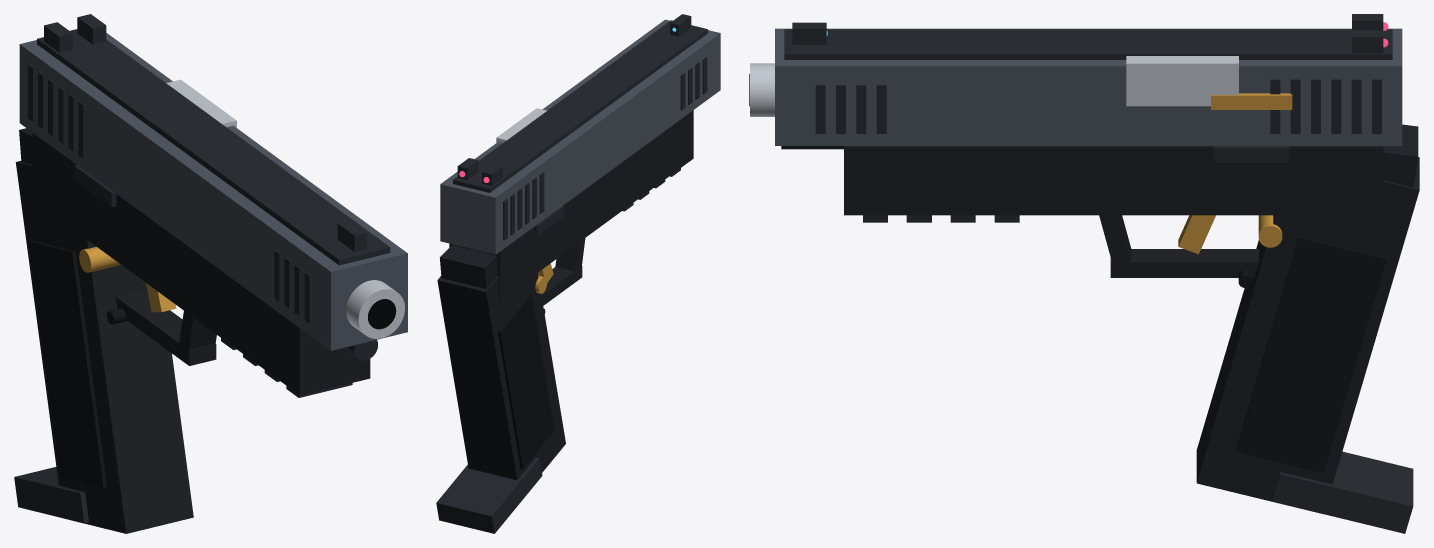
The model's file is pistol.glb.
3 renders of one model, left to right at view 1: azimuth 30°, elevation 25°; view 2: azimuth 150°, elevation 25°; view 3: azimuth 270°, elevation 25°, orthographic. The views are drawn at different scales.
Visible parts, largest first — view 1: slide_main, frame_grip, frame_rail, slide_top_rib, frame_grip_panel_r, frame_tguard_bot, frame_magplate, barrel_tube, frame_tguard_front, slide_chamber, frame_slide_stop, slide_sight_rear_1 (+5 smaller); view 2: slide_main, frame_grip, frame_rail, slide_top_rib, frame_grip_panel_r, frame_magplate, frame_beavertail, frame_tguard_bot, frame_tguard_front, slide_chamber, frame_slide_stop, slide_sight_front (+1 smaller); view 3: slide_main, frame_rail, frame_grip_panel_r, frame_grip, slide_top_rib, frame_magplate, slide_chamber, frame_tguard_bot, frame_beavertail, barrel_tube, slide_extractor, frame_slide_stop (+4 smaller).
Boxes of the visible parts, left/top/right/bottom form: slide_main: left=19, top=33, right=407, bottom=350; frame_grip: left=15, top=161, right=193, bottom=533; frame_rail: left=32, top=132, right=370, bottom=395; slide_top_rib: left=37, top=29, right=390, bottom=265; frame_grip_panel_r: left=28, top=240, right=106, bottom=487; frame_tguard_bot: left=115, top=290, right=216, bottom=365; frame_magplate: left=14, top=467, right=88, bottom=523; barrel_tube: left=346, top=280, right=404, bottom=338; frame_tguard_front: left=178, top=311, right=216, bottom=361; slide_chamber: left=166, top=79, right=236, bottom=127; frame_slide_stop: left=74, top=165, right=116, bottom=207; slide_sight_rear_1: left=77, top=14, right=106, bottom=44; slide_main: left=440, top=19, right=720, bottom=254; frame_grip: left=437, top=273, right=565, bottom=479; frame_rail: left=449, top=110, right=693, bottom=299; slide_top_rib: left=453, top=20, right=707, bottom=192; frame_grip_panel_r: left=498, top=293, right=554, bottom=469; frame_magplate: left=436, top=457, right=542, bottom=533; frame_beavertail: left=439, top=245, right=497, bottom=288; frame_tguard_bot: left=541, top=266, right=582, bottom=305; frame_tguard_front: left=555, top=238, right=585, bottom=277; slide_chamber: left=496, top=108, right=546, bottom=142; frame_slide_stop: left=534, top=206, right=564, bottom=236; slide_sight_front: left=670, top=14, right=691, bottom=36; slide_main: left=775, top=28, right=1402, bottom=145; frame_rail: left=844, top=146, right=1383, bottom=215; frame_grip_panel_r: left=1235, top=236, right=1386, bottom=473; frame_grip: left=1196, top=157, right=1419, bottom=514; slide_top_rib: left=784, top=29, right=1392, bottom=59; frame_magplate: left=1272, top=451, right=1413, bottom=533; slide_chamber: left=1126, top=56, right=1238, bottom=106; frame_tguard_bot: left=1110, top=249, right=1258, bottom=277; frame_beavertail: left=1383, top=124, right=1418, bottom=187; barrel_tube: left=750, top=63, right=774, bottom=116; slide_extractor: left=1211, top=93, right=1292, bottom=109; frame_slide_stop: left=1214, top=146, right=1289, bottom=162.
Size of the model in its own units: 0.0309 by 0.1723 by 0.2138.
